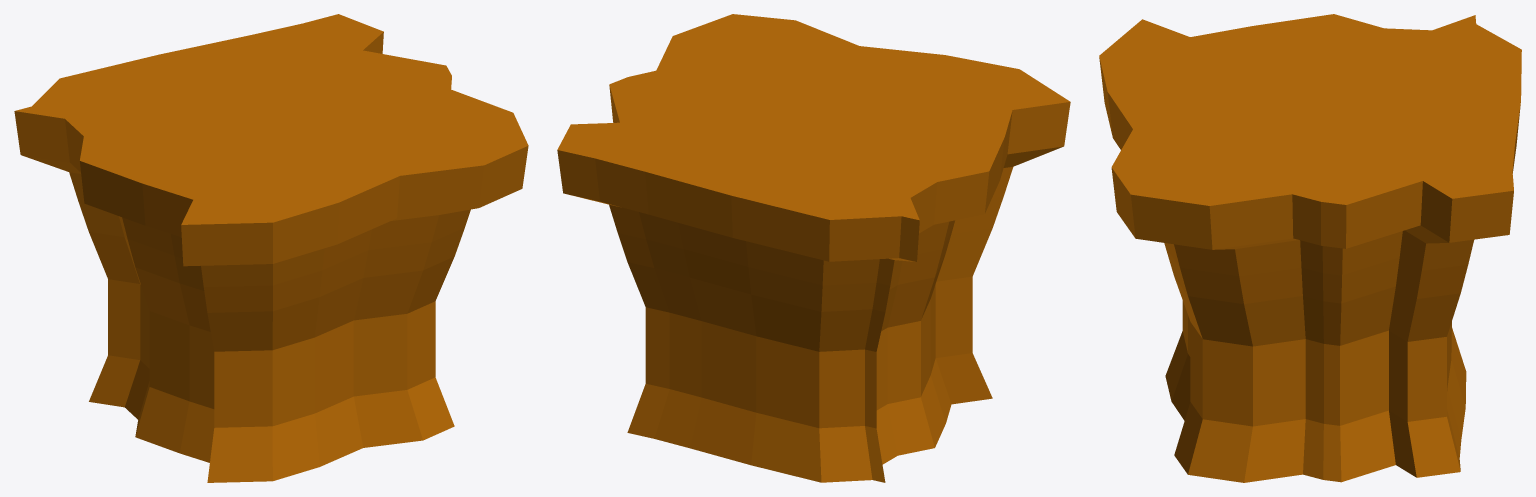
File: piaskowiec.fbx
The picture shows the model from 3 angles, left to right: view 1: azimuth 30°, elevation 25°; view 2: azimuth 150°, elevation 25°; view 3: azimuth 270°, elevation 25°; orthographic projection. The views are drawn at different scales.
Parts seen in each view (by area): view 1: Plane; view 2: Plane; view 3: Plane.
Part boxes in pixels (x1,y1,x2,y2): Plane: (14,14,528,482); Plane: (557,14,1070,482); Plane: (1099,14,1521,482).
Bounding box in the file's own units: 261 × 193 × 243.
